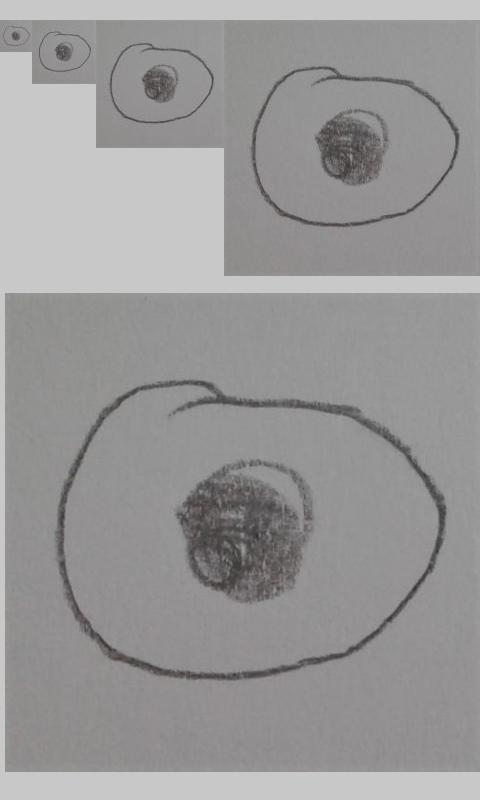radio_button: (51, 374, 449, 685), (248, 61, 464, 231), (108, 41, 216, 124), (38, 30, 92, 73), (2, 25, 31, 47)
